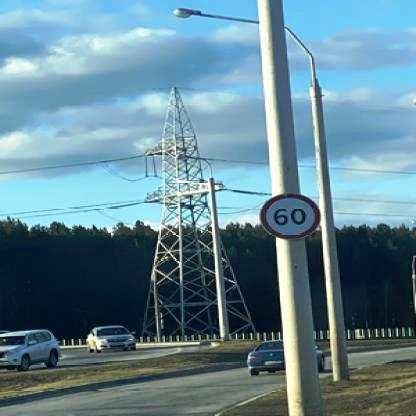Speed Limit -60-: (259, 191, 321, 244)
